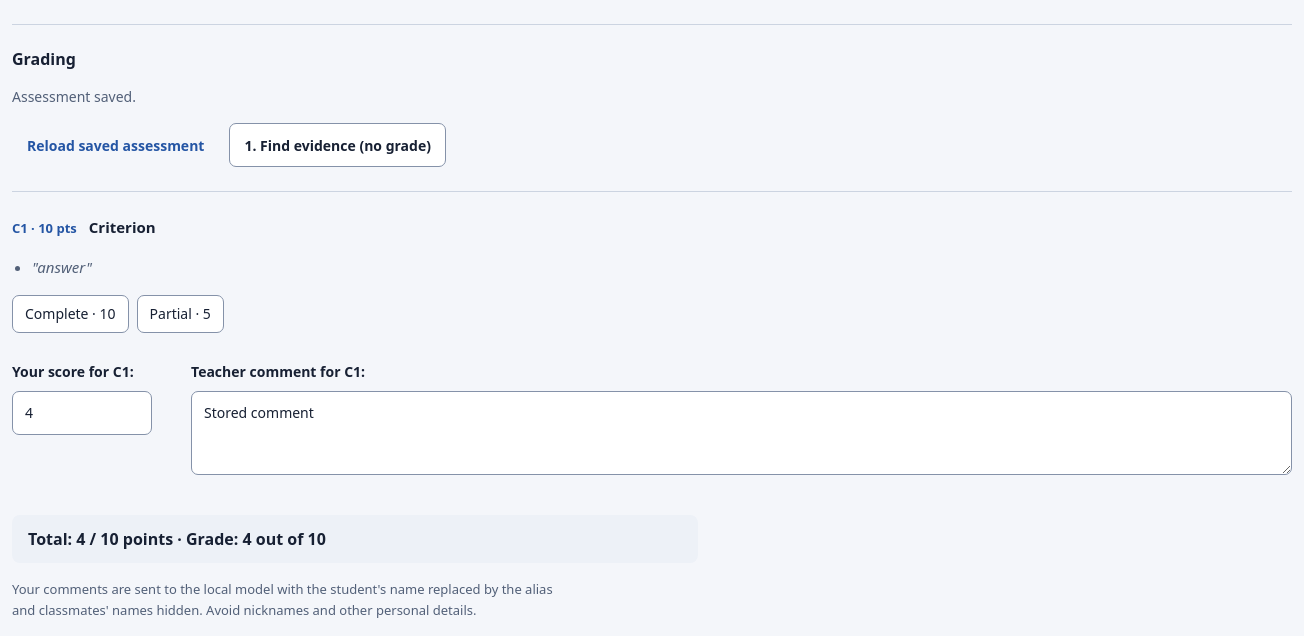
it: saved assessment › shows the queue stage, discarded quotes and cancels the active inference request
Click the button "1. Find evidence (no grade)": (338, 146) [229,124,446,168]
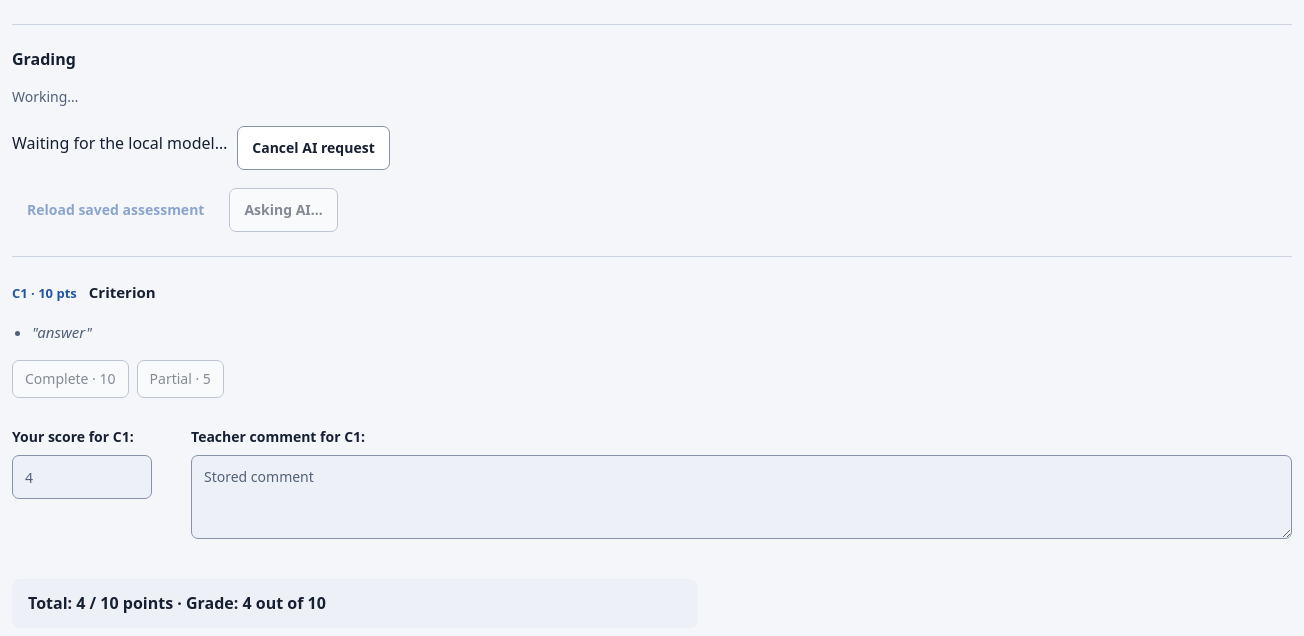
expect the text "Waiting for the local model…" is shown: met, box [12,132,227,156]
Click the button "Cancel AI request": (314, 148) [237,126,390,170]
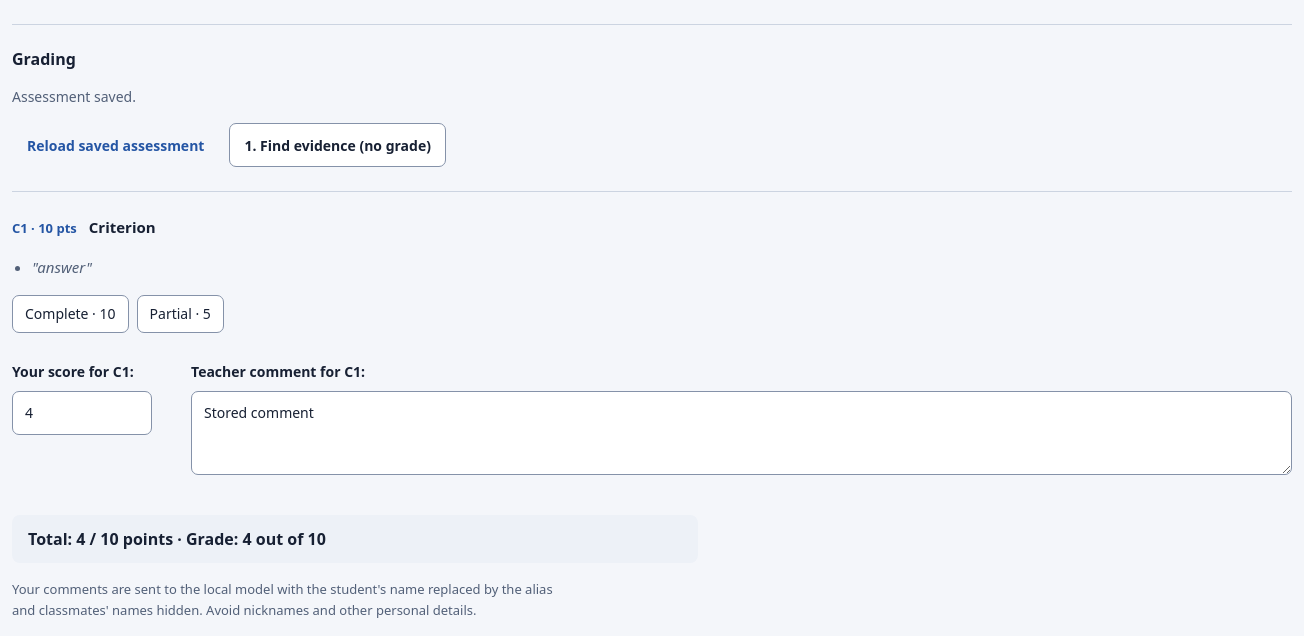
Click the button "1. Find evidence (no grade)": (338, 146) [229,124,446,168]
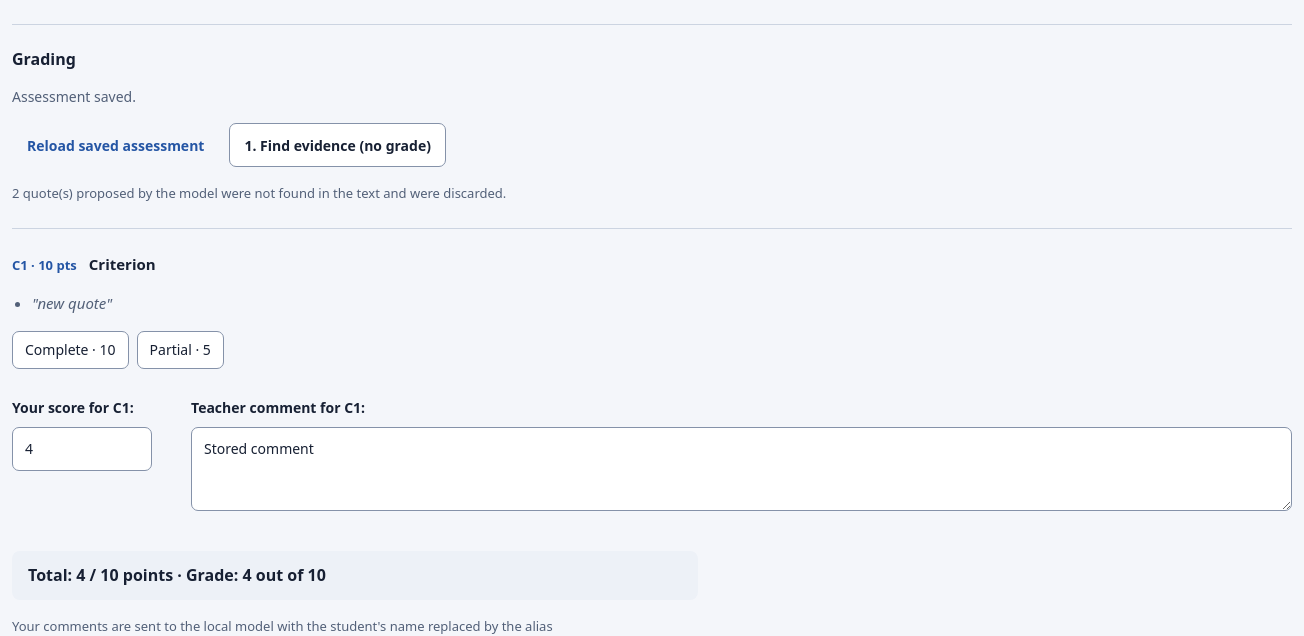
expect the text "\"new quote\"" is shown: met, box [32,293,112,313]
expect the text "2 quote(s) proposed by the model were not found" is shown: met, box [12,184,506,202]
